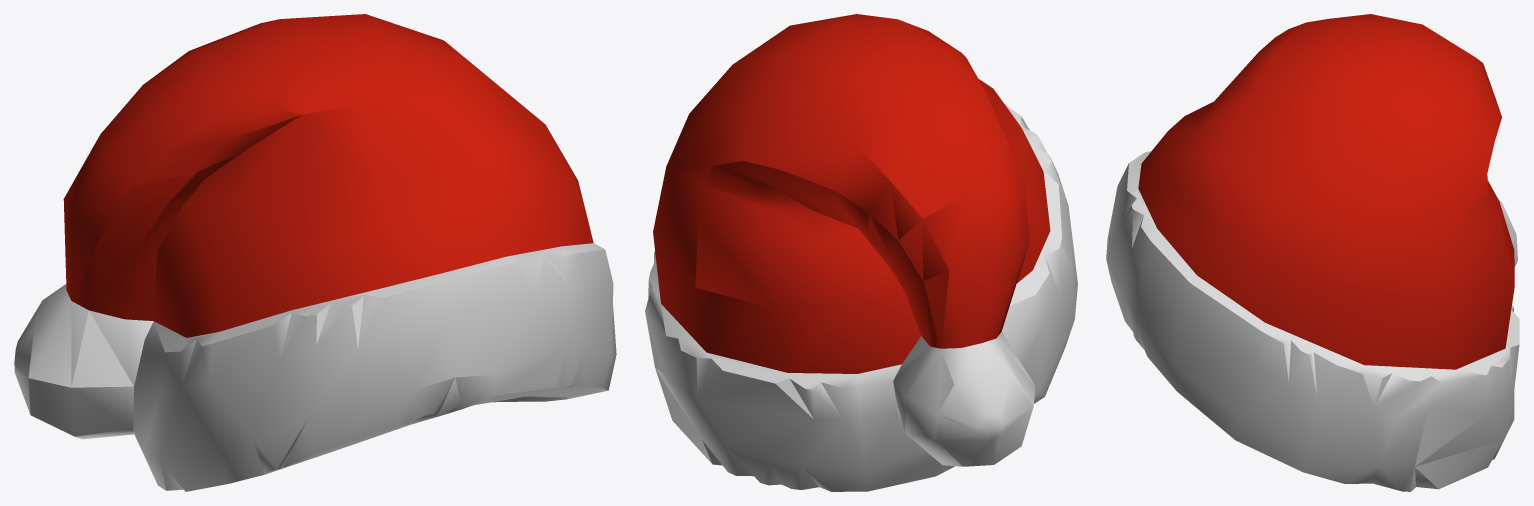
File: gorro.dae
The picture shows the model from 3 angles, left to right: view 1: azimuth 30°, elevation 25°; view 2: azimuth 150°, elevation 25°; view 3: azimuth 270°, elevation 25°; orthographic projection. The views are drawn at different scales.
Visible parts, largest first — view 1: Inner-Node-gorro_dot_io-0; view 2: Inner-Node-gorro_dot_io-0; view 3: Inner-Node-gorro_dot_io-0.
Boxes of the visible parts, x1,y1,x2,y2 form: Inner-Node-gorro_dot_io-0: [14, 14, 616, 491]; Inner-Node-gorro_dot_io-0: [645, 14, 1077, 491]; Inner-Node-gorro_dot_io-0: [1106, 14, 1519, 491].
Size of the model in its own units: 38.15 by 34.39 by 32.95.
